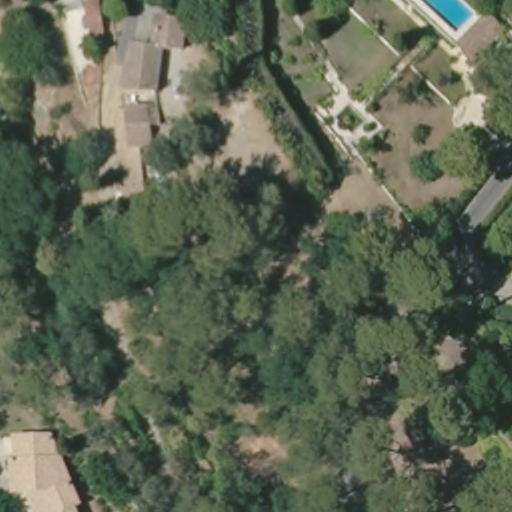pool: (399, 1, 478, 41)
